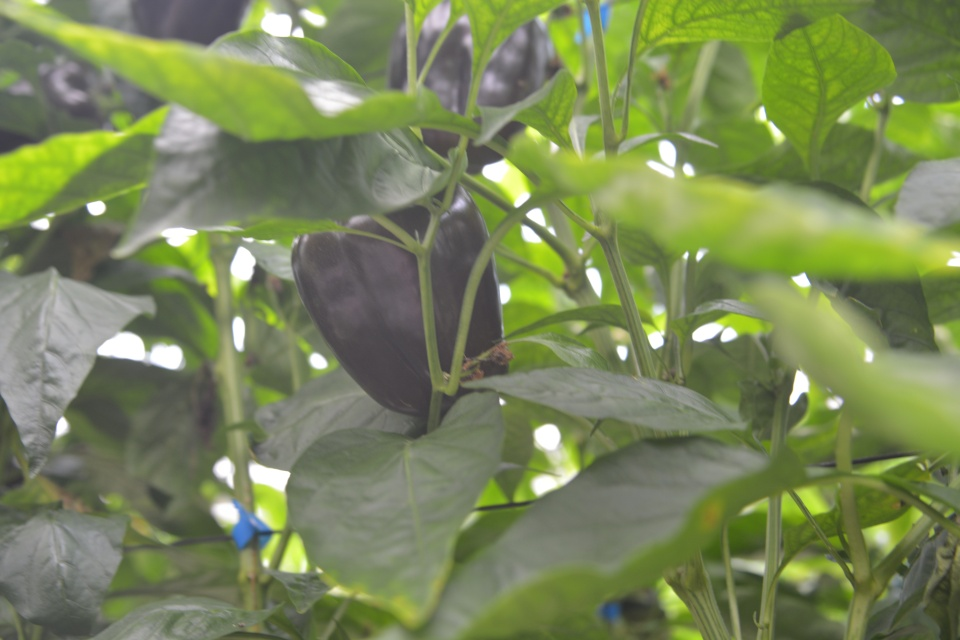fruit: (289, 178, 506, 420), (384, 1, 562, 174)
